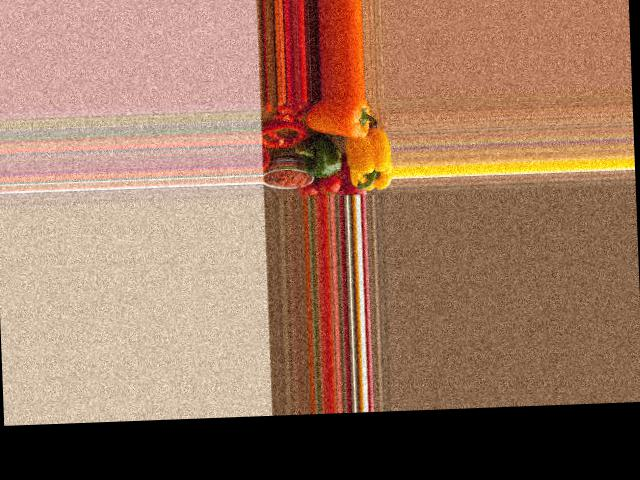bell_pepper: (344, 138, 391, 190)
